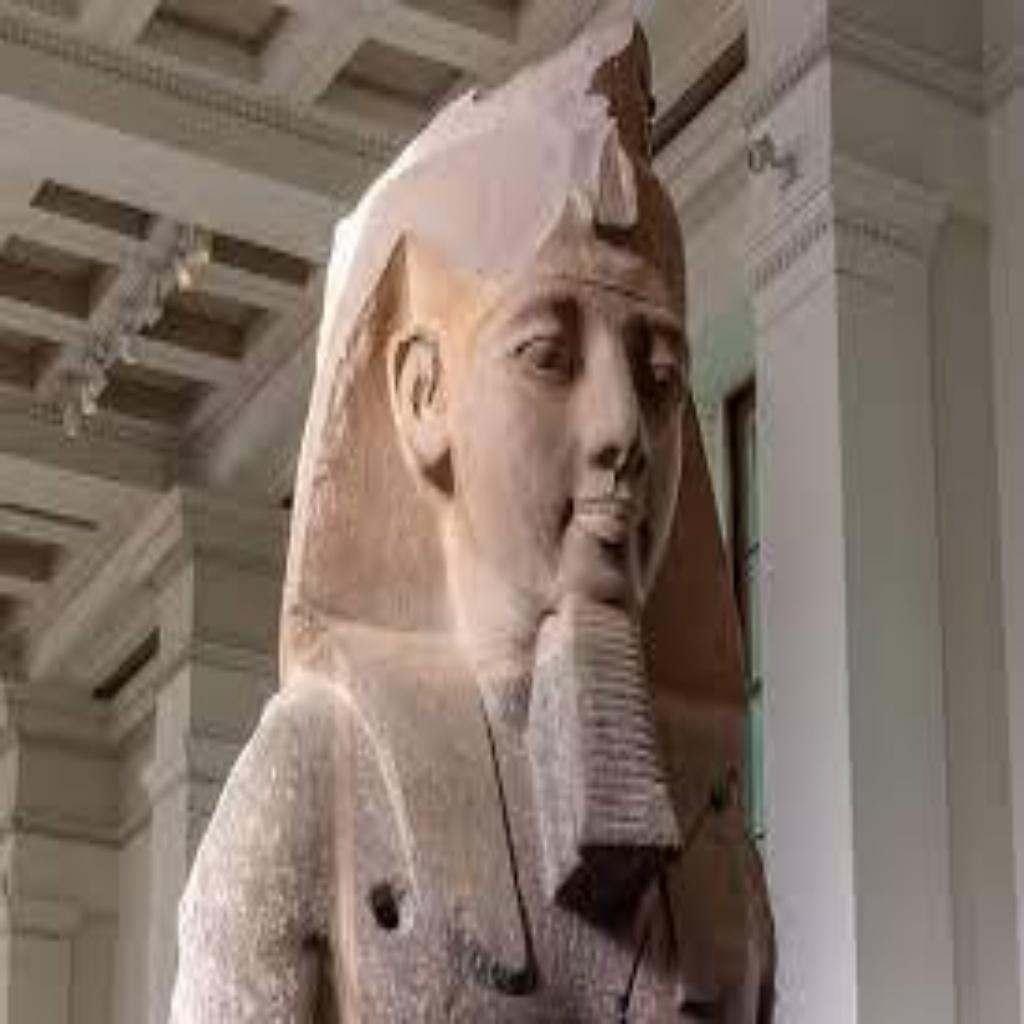bust of Ramesses II: (164, 6, 778, 1018)
